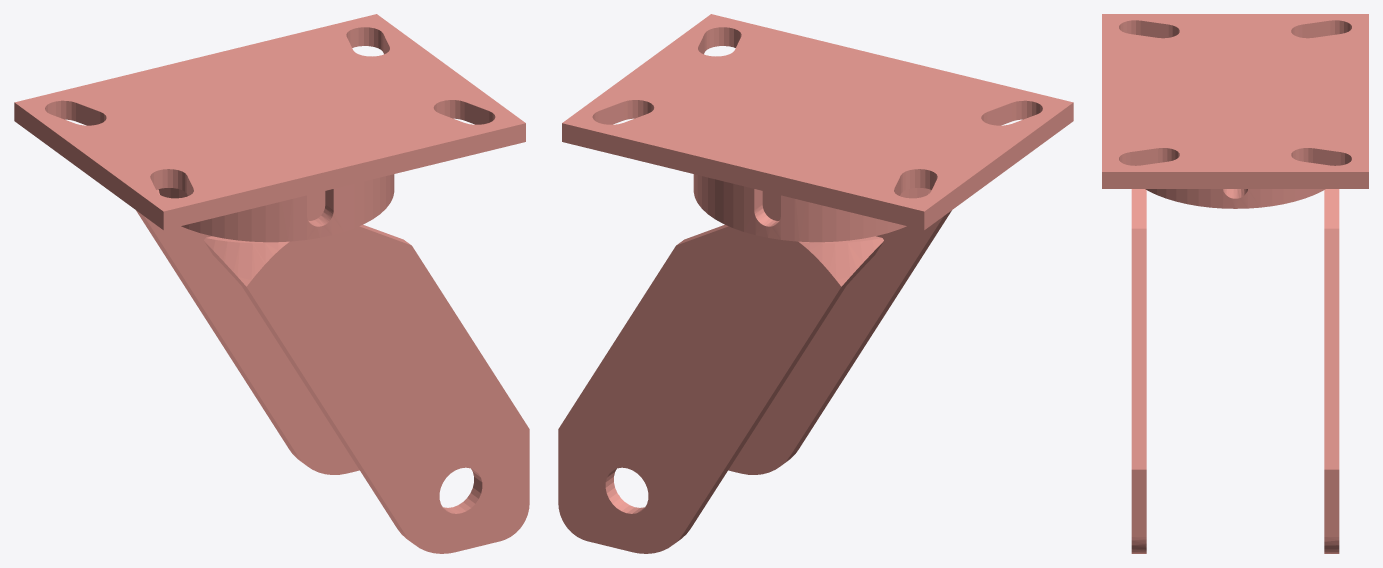
File: swivel_caster_frame.glb
3 views of the same model, side by side, from view 1: azimuth 30°, elevation 25°; view 2: azimuth 150°, elevation 25°; view 3: azimuth 270°, elevation 25° (orthographic). The views are drawn at different scales.
Visible parts, largest first — view 1: Node1; view 2: Node1; view 3: Node1.
Part boxes in pixels (x1,y1,x2,y2): Node1: [14, 14, 529, 553]; Node1: [558, 14, 1073, 553]; Node1: [1102, 14, 1368, 553].
Size of the model in its own units: 169 by 181 by 114.
